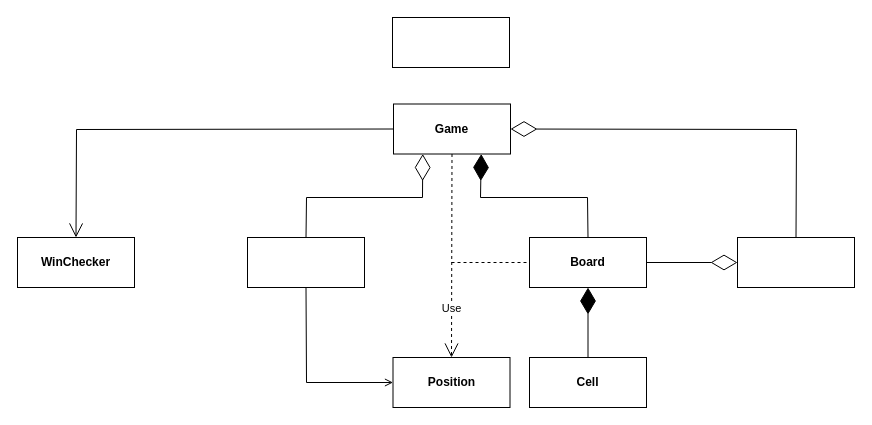
The diagram is 872 pixels wide and 425 high, and some of its shapes have lost their labels. The centre of each missing label's shape, as x and y in pixels:
"Player" goes at (x=305, y=262).
"Program" goes at (x=451, y=42).
"Renderer" goes at (x=795, y=262).
